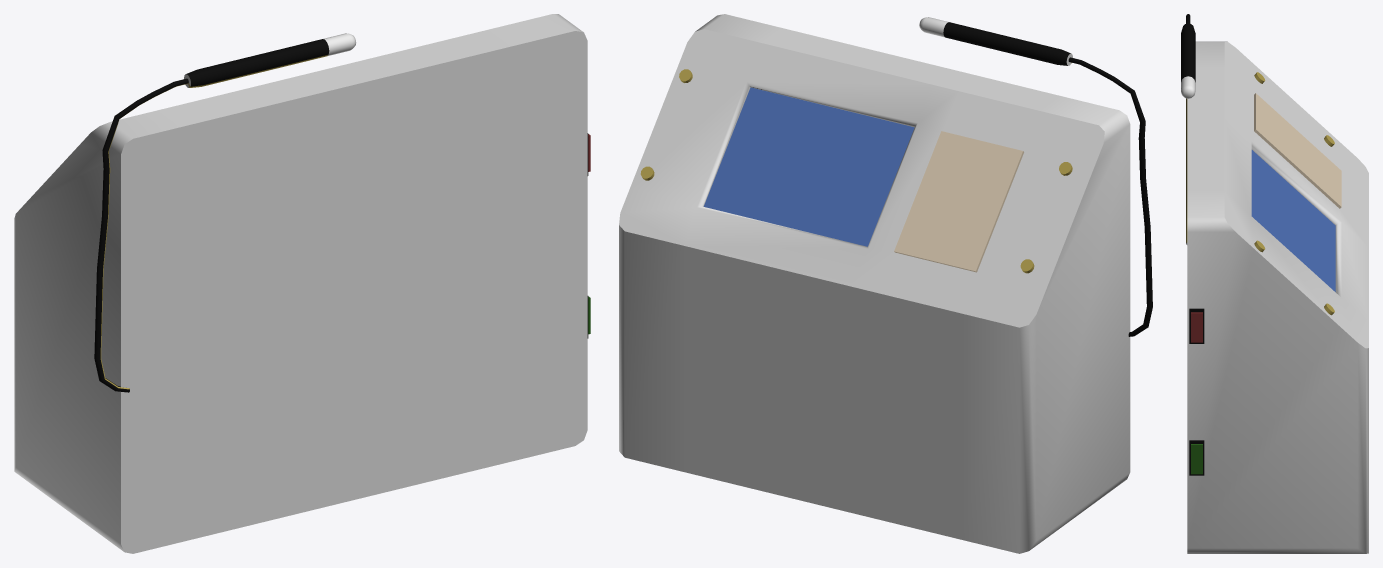
3 renders of one model, left to right at view 1: azimuth 30°, elevation 25°; view 2: azimuth 150°, elevation 25°; view 3: azimuth 270°, elevation 25°, orthographic. The views are drawn at different scales.
Visible parts, largest first — view 1: Cube; view 2: Cube; view 3: Cube.
Part boxes in pixels (<box>): Cube: <box>14,14,590,553</box>; Cube: <box>619,14,1152,553</box>; Cube: <box>1181,14,1368,553</box>.
Size of the model in its own units: 36.37 by 32.62 by 14.68.
